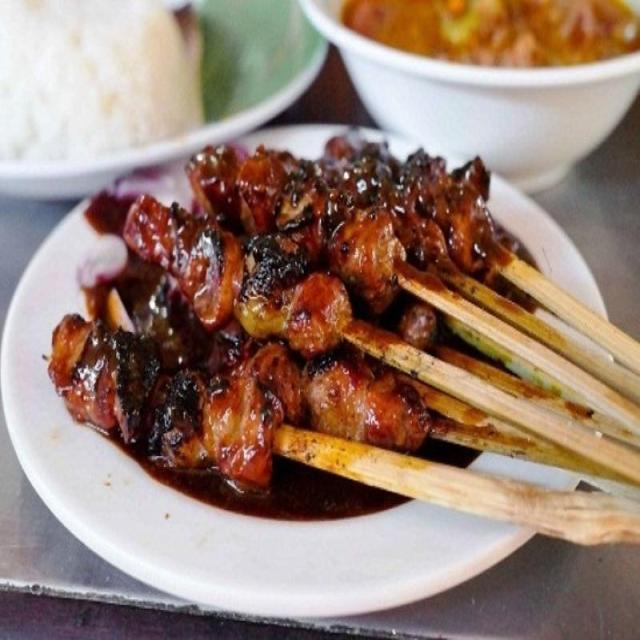Sate: (11, 140, 640, 590)
